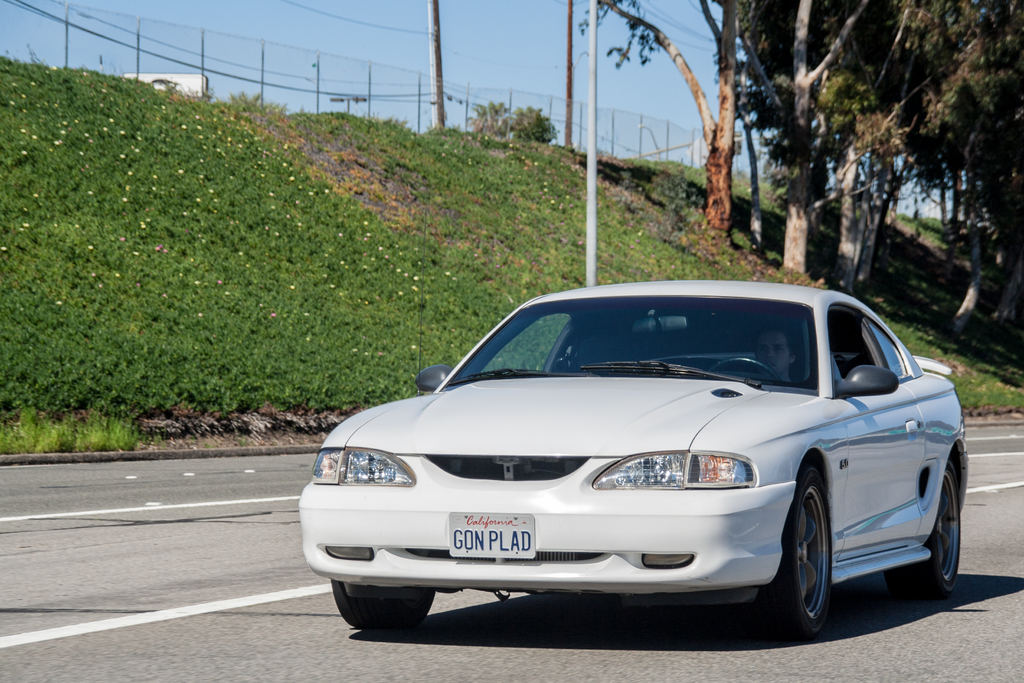Car: (289, 280, 969, 637)
